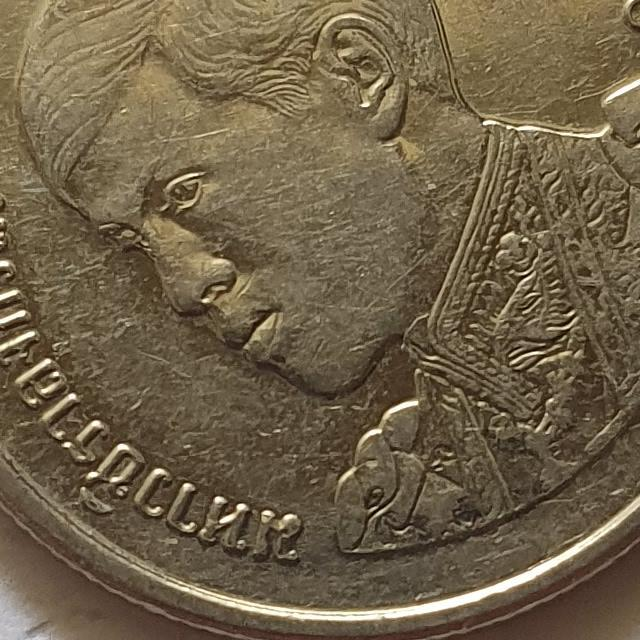1 Bath: (1, 1, 640, 640)
